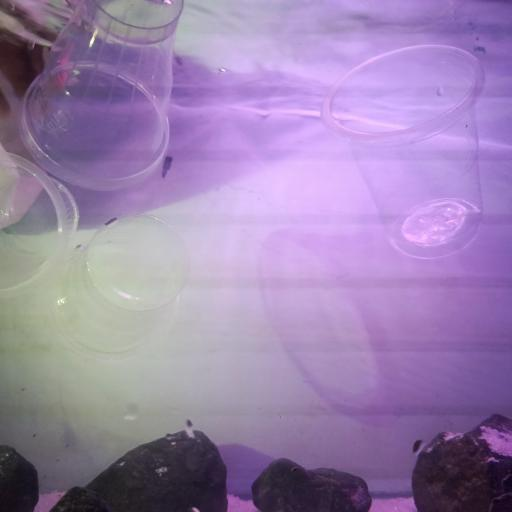plastic_cup: (319, 45, 486, 260), (16, 1, 185, 196), (49, 212, 191, 362), (1, 149, 79, 301)
